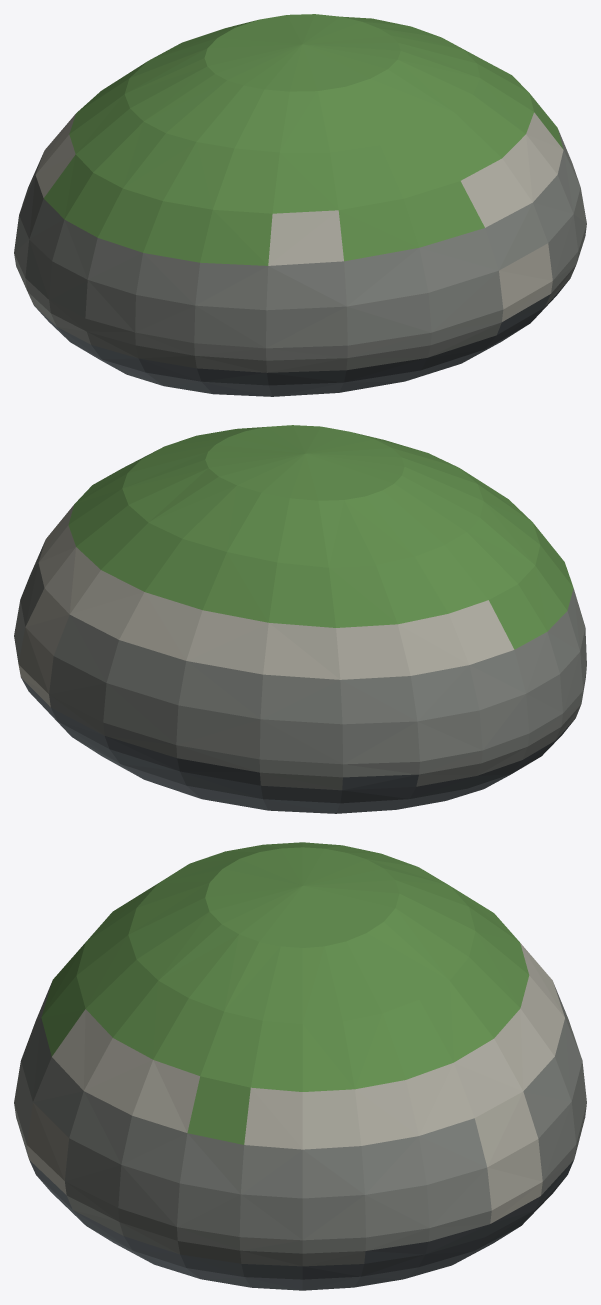
File: Boulder.obj
3 renders of one model, top to bottom at view 1: azimuth 30°, elevation 25°; view 2: azimuth 150°, elevation 25°; view 3: azimuth 270°, elevation 25°, orthographic. The views are drawn at different scales.
Size of the model in its own units: 4.37 by 2.55 by 3.83.
